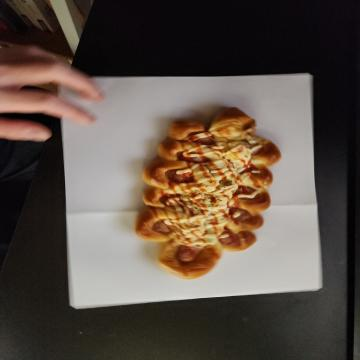pizza_bread: (108, 79, 279, 224)
